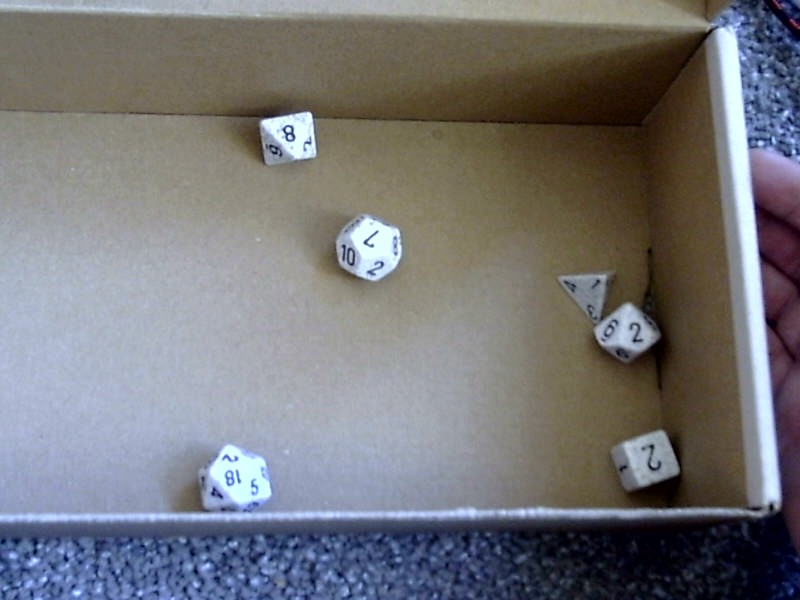d10 2: (592, 303, 664, 365)
d12 7: (323, 200, 413, 290)
d20 18: (192, 434, 282, 520)
d4 1: (555, 260, 617, 323)
d6 2: (607, 418, 683, 501)
d8 8: (243, 100, 324, 172)
